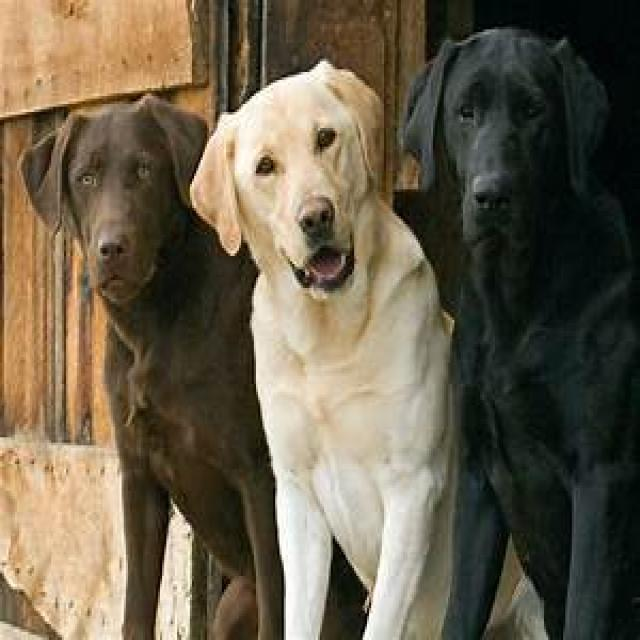dog: (188, 56, 552, 637), (395, 24, 638, 637), (15, 91, 284, 637)
